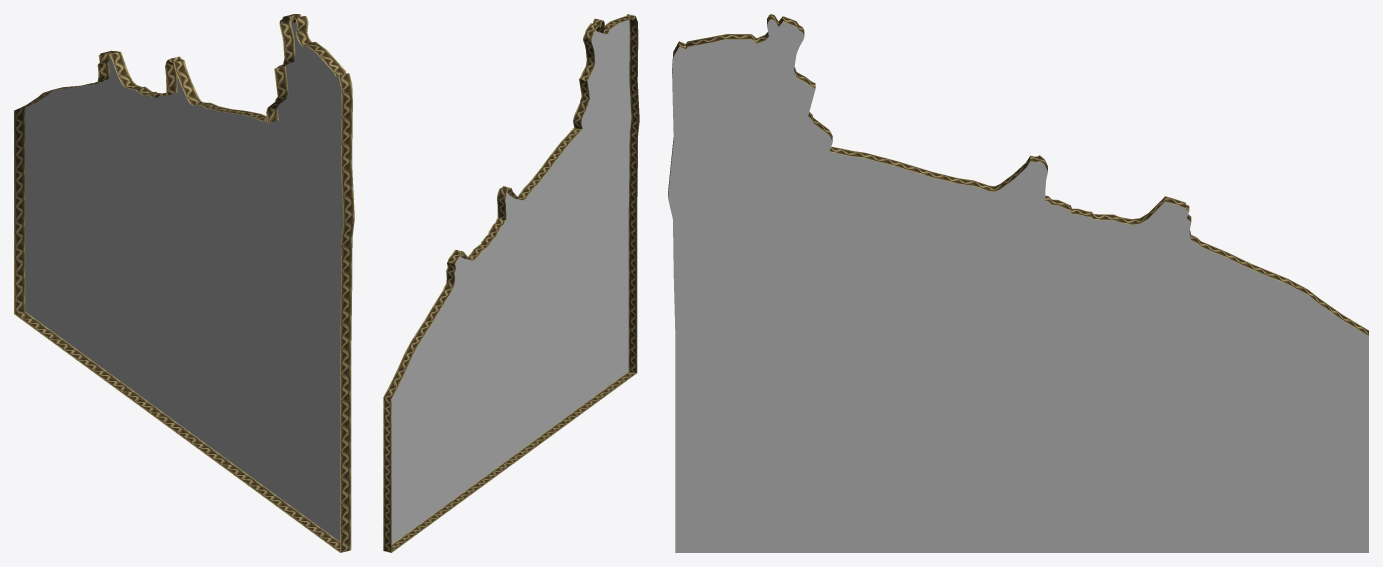
Rendered from ground2.fbx.
3 views of the same model, side by side, from view 1: azimuth 30°, elevation 25°; view 2: azimuth 150°, elevation 25°; view 3: azimuth 270°, elevation 25° (orthographic). The views are drawn at different scales.
Parts seen in each view (by area): view 1: ground_02; view 2: ground_02; view 3: ground_02.
Boxes of the visible parts, x1=… form: ground_02: x1=14, y1=14, x2=354, y2=552; ground_02: x1=383, y1=14, x2=639, y2=552; ground_02: x1=668, y1=14, x2=1368, y2=552.
Bounding box in the file's own units: 0.116 × 4.92 × 5.86.
